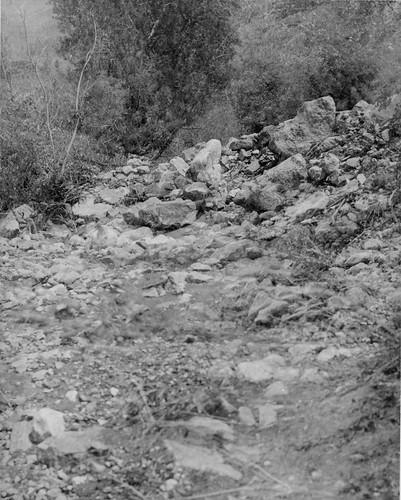rocks: (110, 93, 401, 248)
tree: (1, 1, 382, 152)
